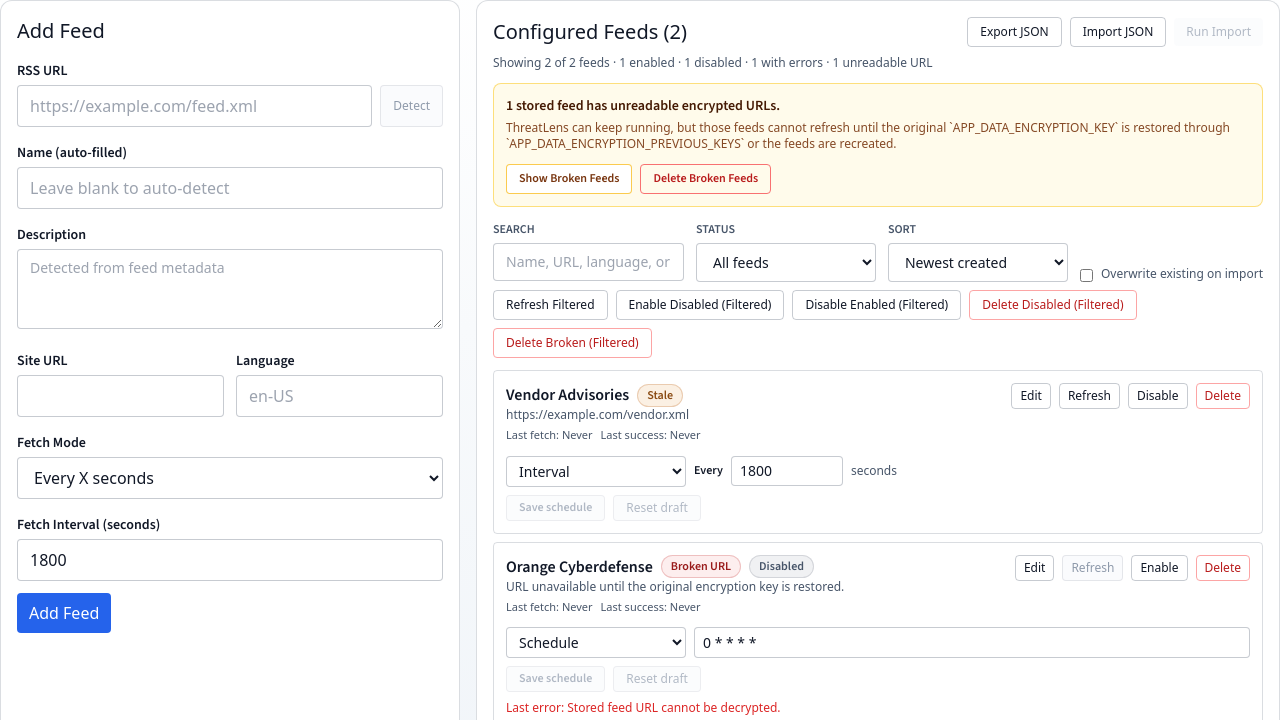
FeedsPage DOM workflows › opens a feed detail dialog with editable metadata and recent articles
The width and height of the screenshot is (1280, 720).
Step 1. Click the button "Edit" in the row of "https://example.com/vendor.xml" → (1031,396), box [1011,383,1051,409]
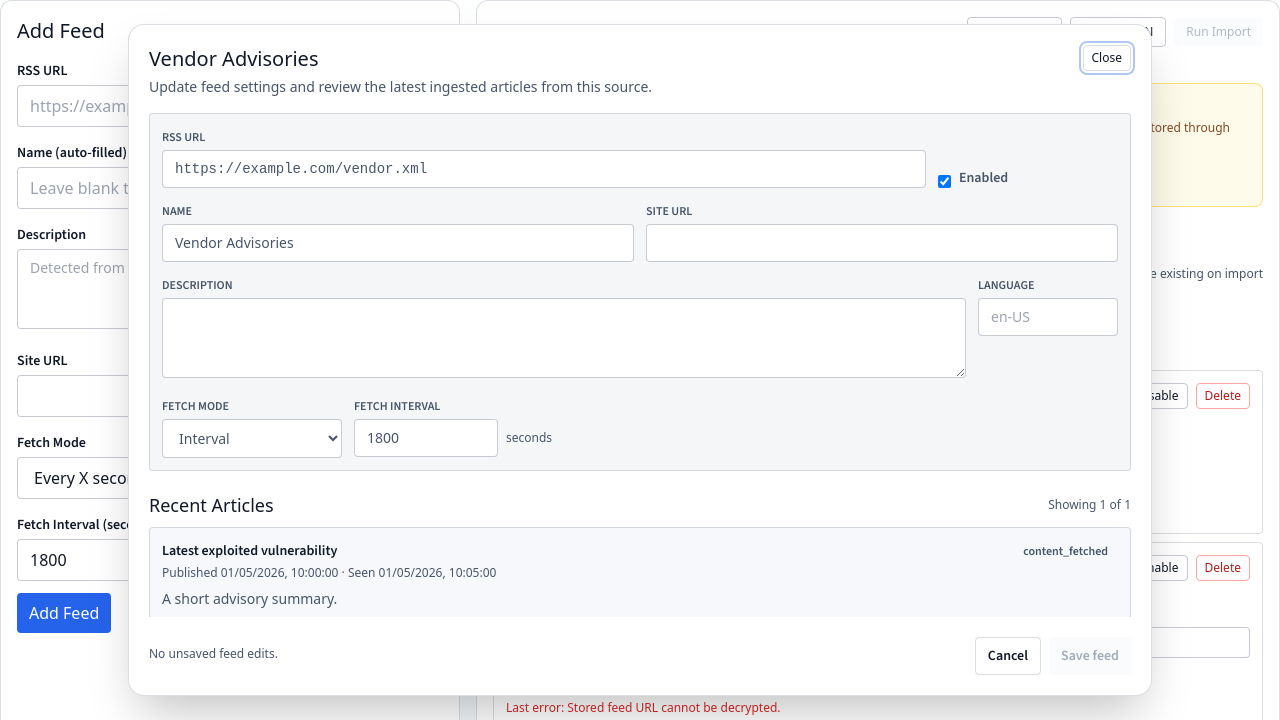
Result: the text "Update feed settings and review the latest ingested articles from this source." is shown at [149,77,652,96]
Result: the label "RSS URL" is shown at [162,129,205,146]
Result: the label "Name" is shown at [162,203,192,220]
